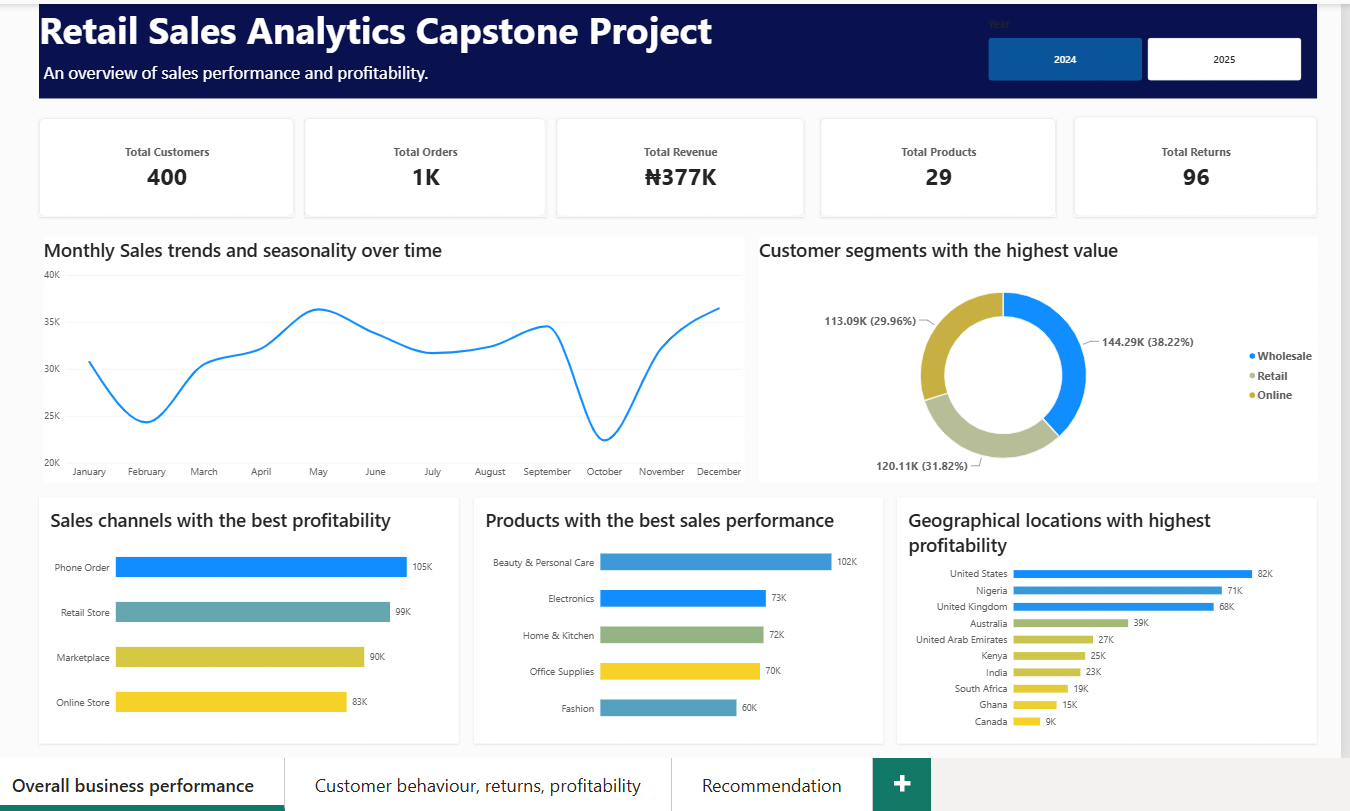

Layout of this report page (visuals, bound fields, positions):
{"tool":"powerbi","page":{"name":"Overall business performance","canvas":[1920,1080],"ordinal":0},"visuals":[{"type":"textbox","box":[55.9,0,1830.6,135.4],"z":1000},{"type":"cardVisual","fields":{"Data":["Customers.Total Customers"]},"box":[55.9,163.3,365.3,141.8],"z":2000},{"type":"cardVisual","fields":{"Data":["Customers.Total Returns"]},"box":[1538.4,161.1,348.1,144],"z":3000},{"type":"cardVisual","fields":{"Data":["Orders.Total Revenue"]},"box":[797.1,163.3,354.5,141.8],"z":4000},{"type":"cardVisual","fields":{"Data":["Products.Total Products"]},"box":[1175.3,163.3,337.3,141.8],"z":5000},{"type":"cardVisual","fields":{"Data":["Orders.Total Orders"]},"box":[436.2,163.3,345.9,141.8],"z":6000},{"type":"lineChart","title":"Monthly Sales trends and seasonality over time","fields":{"Category":["Orders.order_date.Variation.Date Hierarchy.Month"],"Y":["Sum(Orders.revenue)"]},"box":[61.4,333.1,1004.1,352],"z":7000},{"type":"advancedSlicerVisual","fields":{"Values":["Orders.order_date.Variation.Date Hierarchy.Year"]},"box":[1415.9,17.2,449.1,92.4],"z":8000},{"type":"donutChart","title":"Customer segments with the highest value","fields":{"Category":["Customers.customer_segment"],"Y":["Sum(Orders.revenue)"]},"box":[1086.8,333.1,800.9,352],"z":9000},{"type":"barChart","title":"Geographical locations with highest profitability","fields":{"Category":["Customers.country"],"Y":["Sum(Orders.revenue)"]},"box":[1284.9,706.9,601.6,352.4],"z":10000},{"type":"barChart","title":"Sales channels with the best profitability","fields":{"Category":["Orders.sales_channel"],"Y":["Sum(Orders.revenue)"]},"box":[55.9,706.9,601.6,352.4],"z":11000},{"type":"textbox","box":[62.3,81.6,1110.8,53.7],"z":12000},{"type":"barChart","title":"Products with the best sales performance","fields":{"Category":["Products.category"],"Y":["Sum(Orders.revenue)"]},"box":[679,706.9,586.6,352.4],"z":13000}]}

Visuals, with their boxes on the page's 1920x1080 design canvas (x1, y1, x2, y2). These are canvas units, not pixel positions in the 1350x811 screenshot, which may show the page scaled, cropped or inside an application window:
textbox: [left=56, top=0, right=1886, bottom=135]
cardVisual - Customers.Total Customers: [left=56, top=163, right=421, bottom=305]
cardVisual - Customers.Total Returns: [left=1538, top=161, right=1886, bottom=305]
cardVisual - Orders.Total Revenue: [left=797, top=163, right=1152, bottom=305]
cardVisual - Products.Total Products: [left=1175, top=163, right=1513, bottom=305]
cardVisual - Orders.Total Orders: [left=436, top=163, right=782, bottom=305]
"Monthly Sales trends and seasonality over time" lineChart: [left=61, top=333, right=1066, bottom=685]
advancedSlicerVisual - Orders.order_date.Variation.Date Hierarchy.Year: [left=1416, top=17, right=1865, bottom=110]
"Customer segments with the highest value" donutChart: [left=1087, top=333, right=1888, bottom=685]
"Geographical locations with highest profitability" barChart: [left=1285, top=707, right=1886, bottom=1059]
"Sales channels with the best profitability" barChart: [left=56, top=707, right=658, bottom=1059]
textbox: [left=62, top=82, right=1173, bottom=135]
"Products with the best sales performance" barChart: [left=679, top=707, right=1266, bottom=1059]
